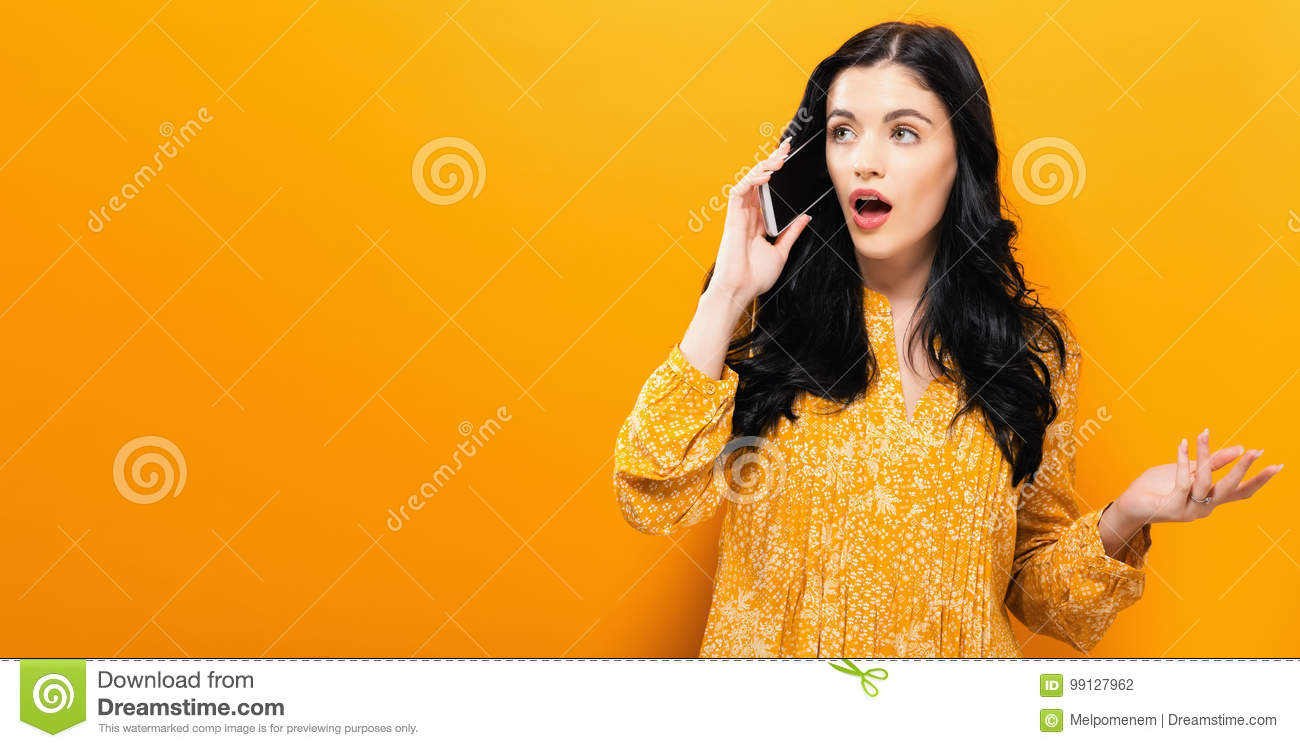phone: (757, 124, 838, 239)
talk: (718, 102, 934, 306)
